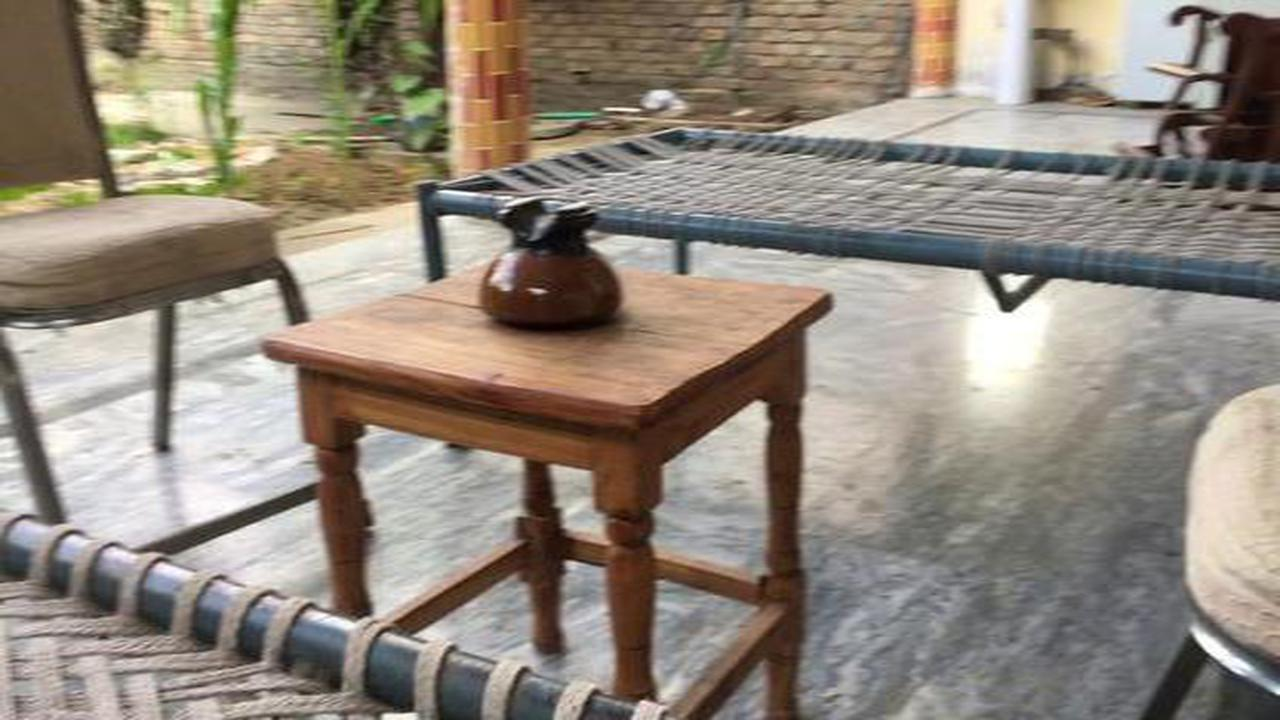insulator_pin: (474, 186, 631, 338)
